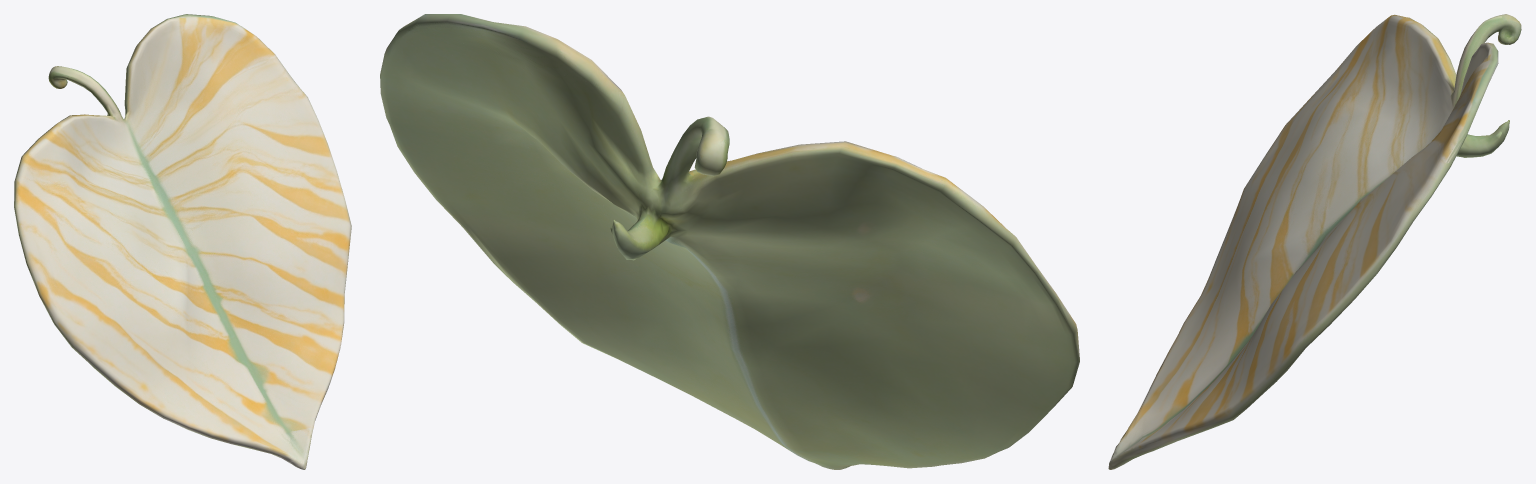
File: pothos_variegated.glb
The picture shows the model from 3 angles, left to right: view 1: azimuth 30°, elevation 25°; view 2: azimuth 150°, elevation 25°; view 3: azimuth 270°, elevation 25°; orthographic projection. The views are drawn at different scales.
Bounding box in the file's own units: 2 × 1.99 × 1.73.
Materials: 1 (1 with a texture image).
